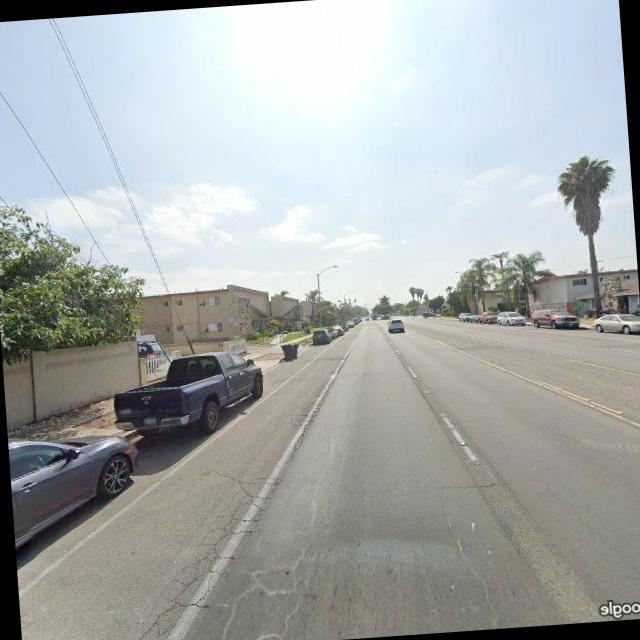crack: (123, 459, 331, 640)
